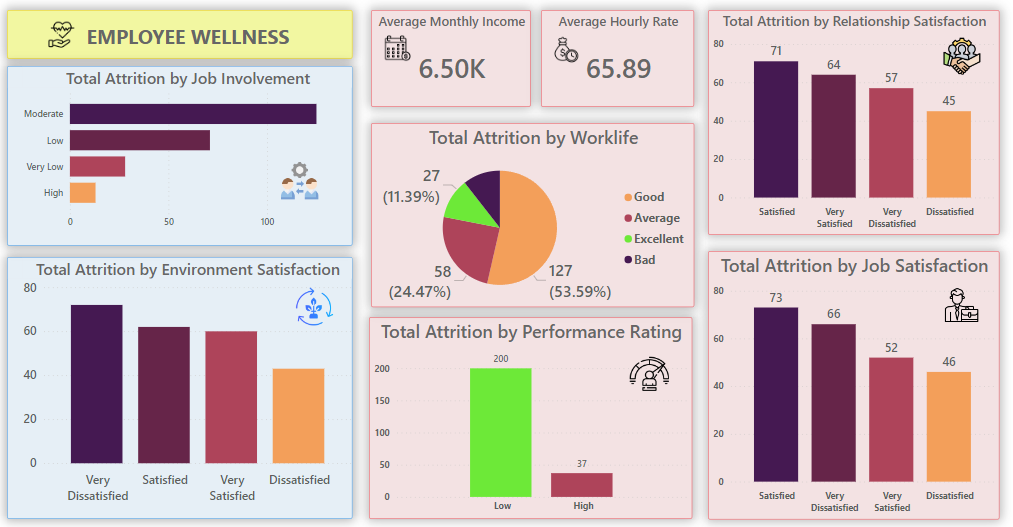

The dashboard page shown, as its layout file describes it:
{"tool":"powerbi","page":{"name":"Page 5","canvas":[1380,720],"ordinal":4},"visuals":[{"type":"textbox","box":[11.9,14.9,467.2,65.7],"z":0},{"type":"card","title":"Average Monthly Income","fields":{"Values":["Avg(HR-Employee-Attrition.MonthlyIncome)"]},"box":[504.5,14.9,216.4,131.3],"z":1000},{"type":"card","title":"Average Hourly Rate","fields":{"Values":["Avg(HR-Employee-Attrition.HourlyRate)"]},"box":[734.3,14.9,207.5,131.3],"z":2000},{"type":"clusteredColumnChart","title":"Total Attrition by Environment Satisfaction","fields":{"Category":["HR-Employee-Attrition.EnvironmentSatisfaction (groups)"],"Y":["Sum(HR-Employee-Attrition.Attrition Count)"]},"box":[11.9,349.3,467.2,353.7],"z":3000},{"type":"clusteredBarChart","title":"Total Attrition by Job Involvement","fields":{"Category":["HR-Employee-Attrition.JobInvolvement (groups)"],"Y":["Sum(HR-Employee-Attrition.Attrition Count)"]},"box":[11.9,91,467.2,243.3],"z":4000},{"type":"clusteredColumnChart","title":"Total Attrition by Relationship Satisfaction","fields":{"Category":["HR-Employee-Attrition.RelationshipSatisfaction (groups)"],"Y":["Sum(HR-Employee-Attrition.Attrition Count)"]},"box":[959.7,14.9,394,304.5],"z":5000},{"type":"clusteredColumnChart","title":"Total Attrition by Performance Rating","fields":{"Category":["HR-Employee-Attrition.PerformanceRating (groups)"],"Y":["Sum(HR-Employee-Attrition.Attrition Count)"]},"box":[501.5,429.9,437.3,273.1],"z":6000},{"type":"pieChart","title":"Total Attrition by Worklife","fields":{"Category":["HR-Employee-Attrition.WorkLifeBalance (groups)"],"Y":["Sum(HR-Employee-Attrition.Attrition Count)"]},"box":[504.5,167.2,437.3,249.3],"z":6001},{"type":"clusteredColumnChart","title":"Total Attrition by Job Satisfaction","fields":{"Y":["Sum(HR-Employee-Attrition.Attrition Count)"],"Category":["HR-Employee-Attrition.JobSatisfaction (groups)"]},"box":[959.7,340.3,394,362.7],"z":6002},{"type":"image","box":[397,385.1,61.2,61.2],"z":6003},{"type":"image","box":[1271.6,47.8,61.2,59.7],"z":6004},{"type":"image","box":[1271.6,385.1,61.2,56.7],"z":6005},{"type":"image","box":[849.3,473.1,62.7,67.2],"z":6006},{"type":"image","box":[376.1,213.4,64.2,64.2],"z":6007},{"type":"image","box":[62.7,25.4,46.3,44.8],"z":6008},{"type":"image","box":[517.9,41.8,44.8,49.3],"z":6009},{"type":"image","box":[744.8,46.3,46.3,44.8],"z":6010}]}

Visuals, with their boxes in screenshot pixels (x1, y1, x2, y2), scaled from the page's 1380x720 canvas onto the 1013x527 screenshot:
textbox: pyautogui.locateOnScreen(9, 11, 352, 59)
"Average Monthly Income" card: pyautogui.locateOnScreen(370, 11, 529, 107)
"Average Hourly Rate" card: pyautogui.locateOnScreen(539, 11, 691, 107)
"Total Attrition by Environment Satisfaction" clusteredColumnChart: pyautogui.locateOnScreen(9, 256, 352, 515)
"Total Attrition by Job Involvement" clusteredBarChart: pyautogui.locateOnScreen(9, 67, 352, 245)
"Total Attrition by Relationship Satisfaction" clusteredColumnChart: pyautogui.locateOnScreen(704, 11, 994, 234)
"Total Attrition by Performance Rating" clusteredColumnChart: pyautogui.locateOnScreen(368, 315, 689, 515)
"Total Attrition by Worklife" pieChart: pyautogui.locateOnScreen(370, 122, 691, 305)
"Total Attrition by Job Satisfaction" clusteredColumnChart: pyautogui.locateOnScreen(704, 249, 994, 515)
image: pyautogui.locateOnScreen(291, 282, 336, 327)
image: pyautogui.locateOnScreen(933, 35, 978, 79)
image: pyautogui.locateOnScreen(933, 282, 978, 323)
image: pyautogui.locateOnScreen(623, 346, 669, 395)
image: pyautogui.locateOnScreen(276, 156, 323, 203)
image: pyautogui.locateOnScreen(46, 19, 80, 51)
image: pyautogui.locateOnScreen(380, 31, 413, 67)
image: pyautogui.locateOnScreen(547, 34, 581, 67)
